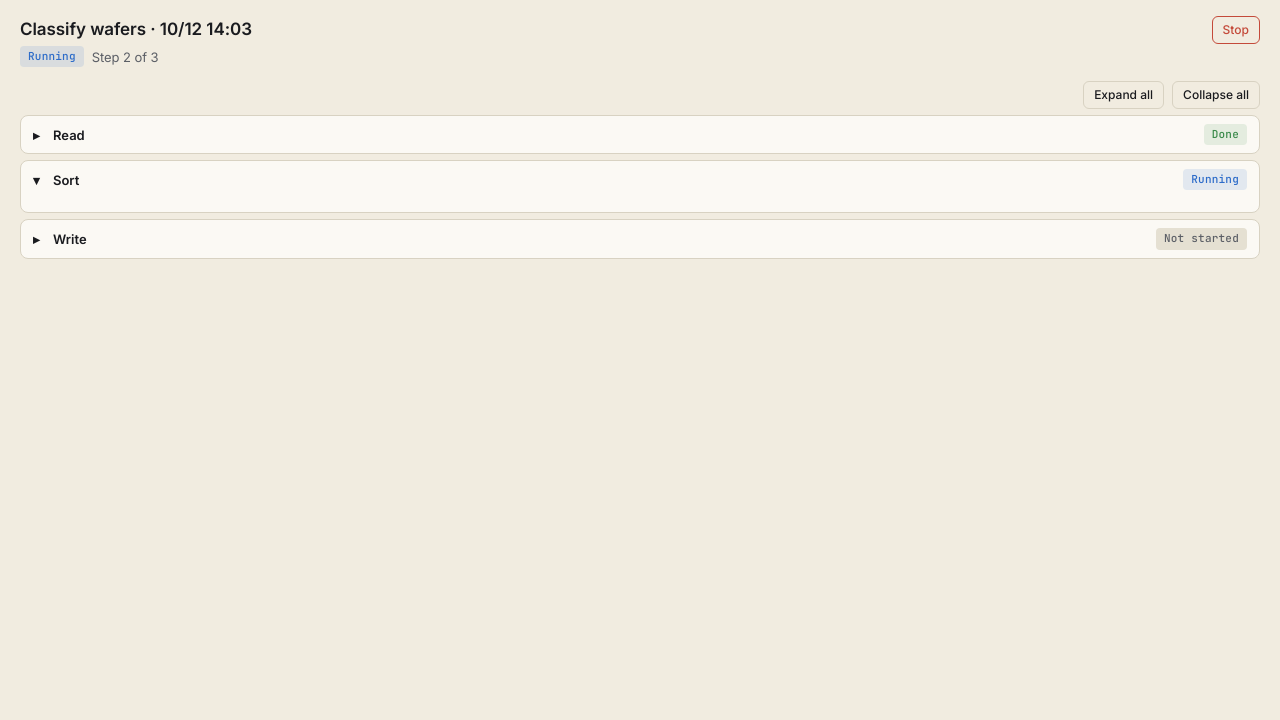
ExecutionView › never shows another execution's messages from the same conversation
What coordinates should you click on to do the following:
click the button "Expand all"
I would click on:
 (1124, 95)
Its box is [1083,81,1164,109].
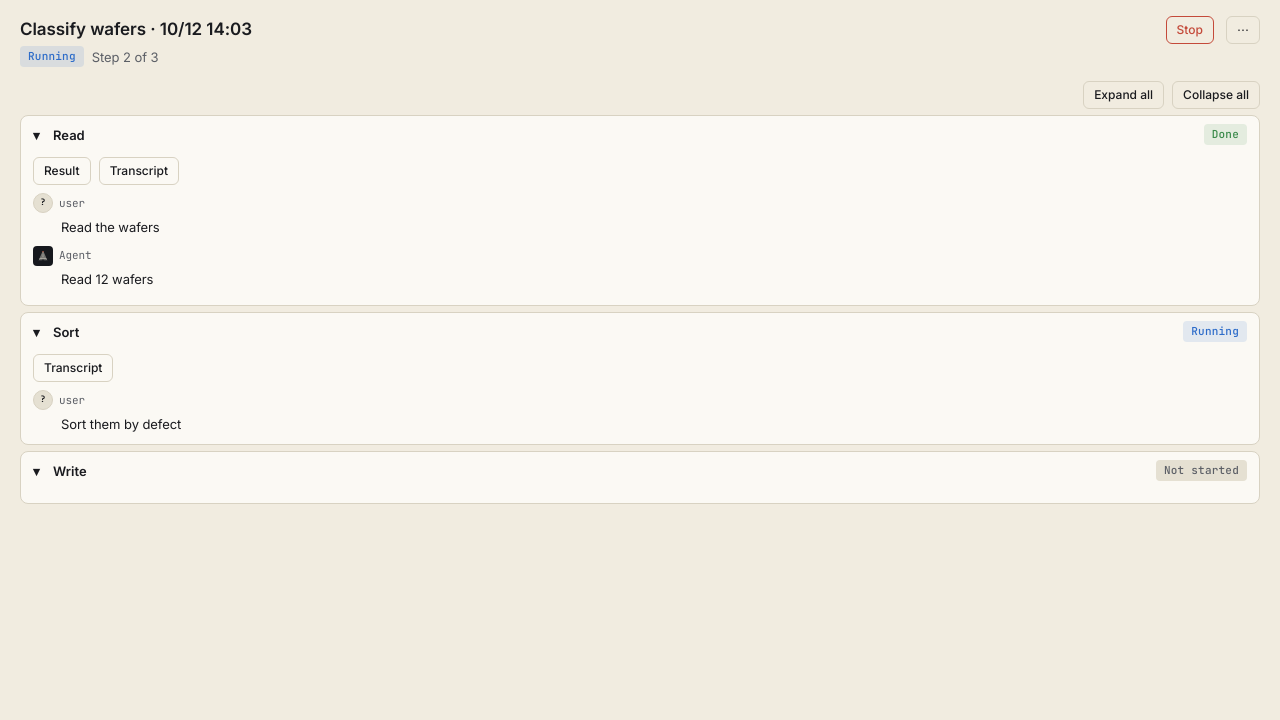
Now the text "Read 12 wafers" is shown, box [61,271,153,287]
